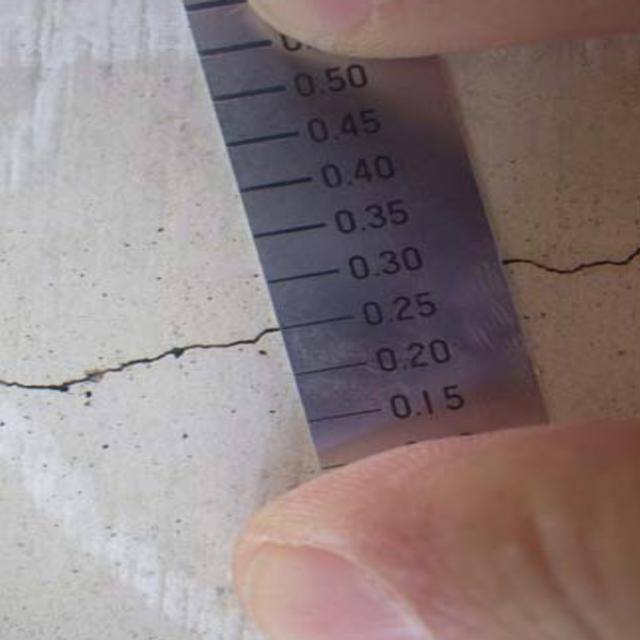crack: (4, 322, 280, 402), (503, 230, 640, 290)
